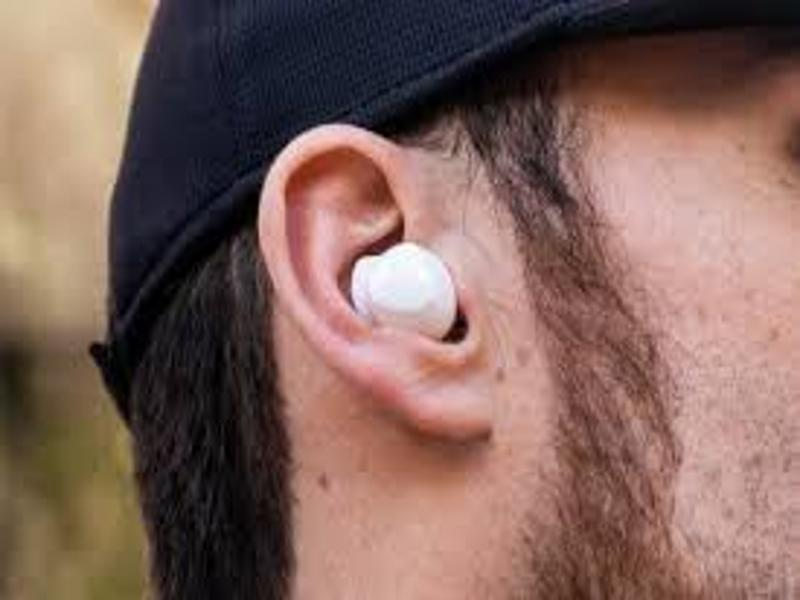headphone: (347, 237, 460, 349)
